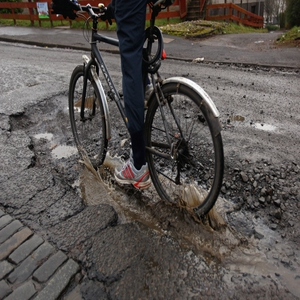pothole: (20, 99, 298, 284)
